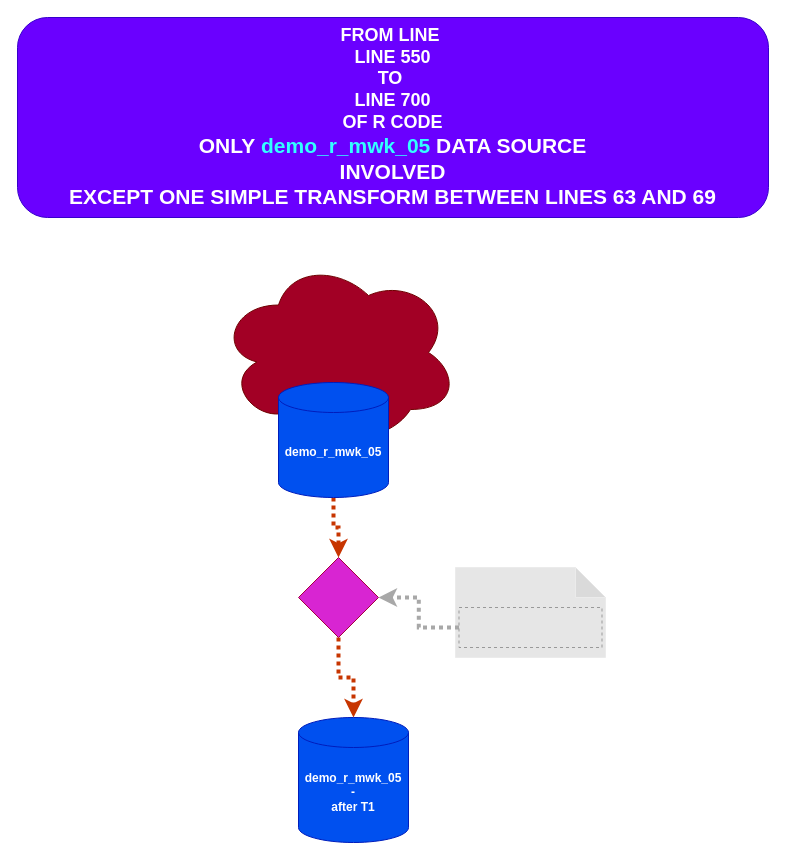
This 786x860 diagram has some shape labels left out. Grey dashed boxes stand in for pictures. The box of each missing label's shape, as (x1, y1, x2, y2) in pixels:
EUROSTAT DATASOURCE: (218, 256, 458, 448)
Transform: (298, 556, 378, 638)
